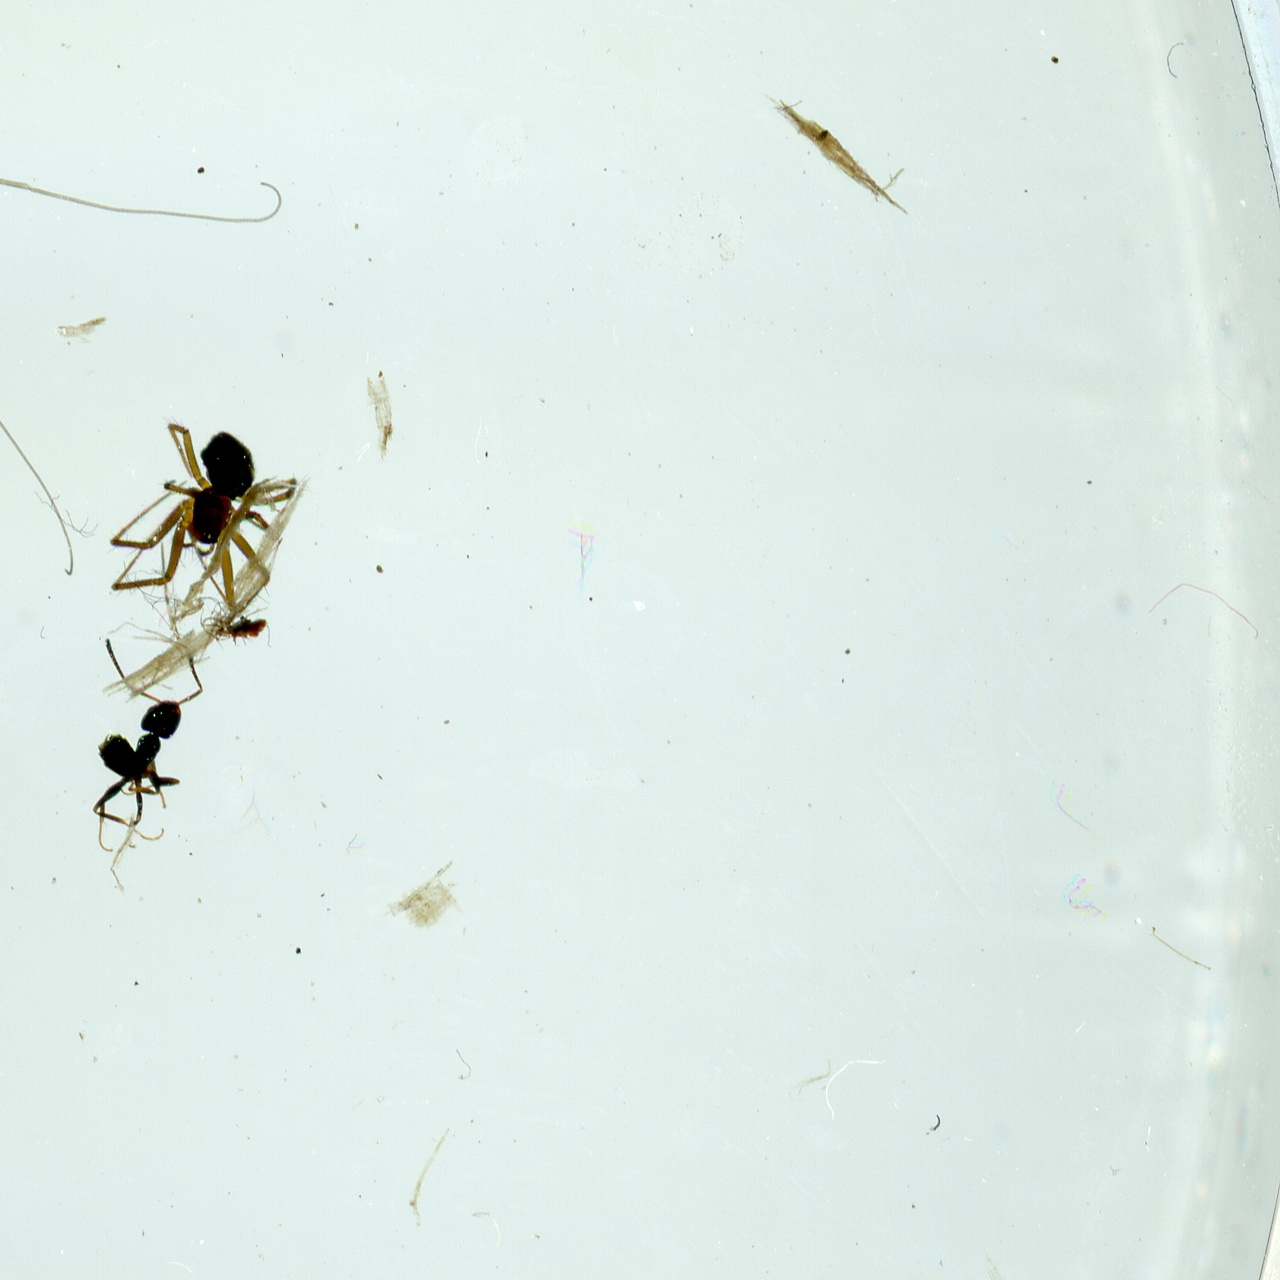arthropod: (0, 0, 315, 588), (91, 401, 312, 644), (89, 633, 206, 857)
